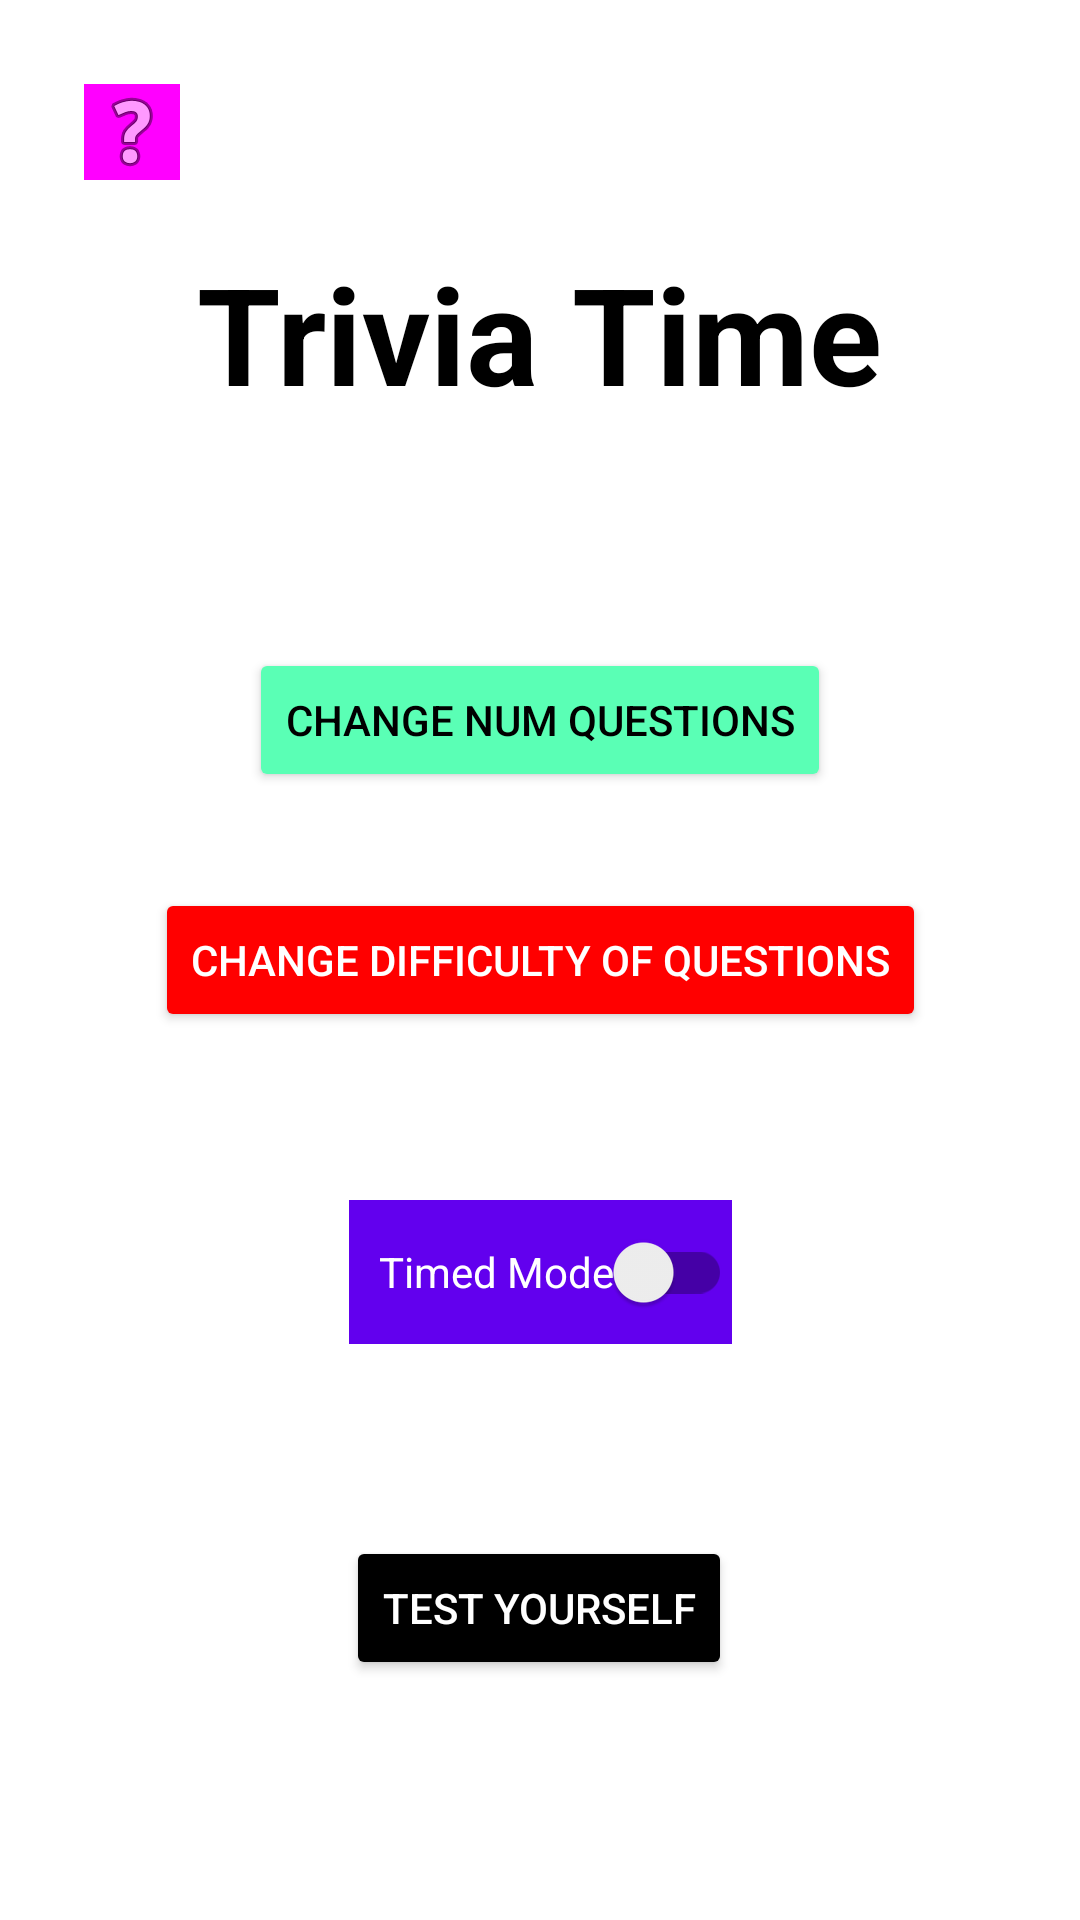

Where to tap for icons on this 1080 × 1920 app screen, as (x=x, y=y):
Instructions: (x=132, y=132)
